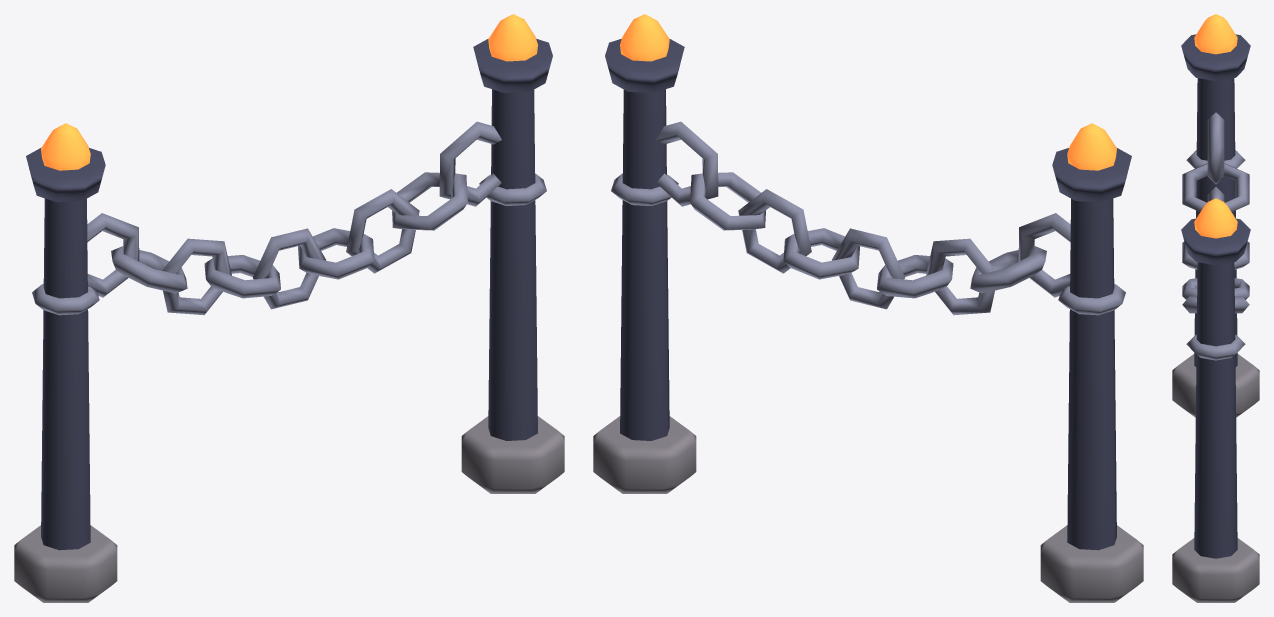
Rendered from chain_fence.glb.
3 renders of one model, left to right at view 1: azimuth 30°, elevation 25°; view 2: azimuth 150°, elevation 25°; view 3: azimuth 270°, elevation 25°, orthographic. The views are drawn at different scales.
Parts seen in each view (by area): view 1: Fence; view 2: Fence; view 3: Fence.
Boxes of the visible parts, <box> form: Fence: <box>14,14,564,602</box>; Fence: <box>593,14,1143,602</box>; Fence: <box>1172,14,1259,602</box>.
Bounding box in the file's own units: 1.19 × 0.99 × 0.2.
